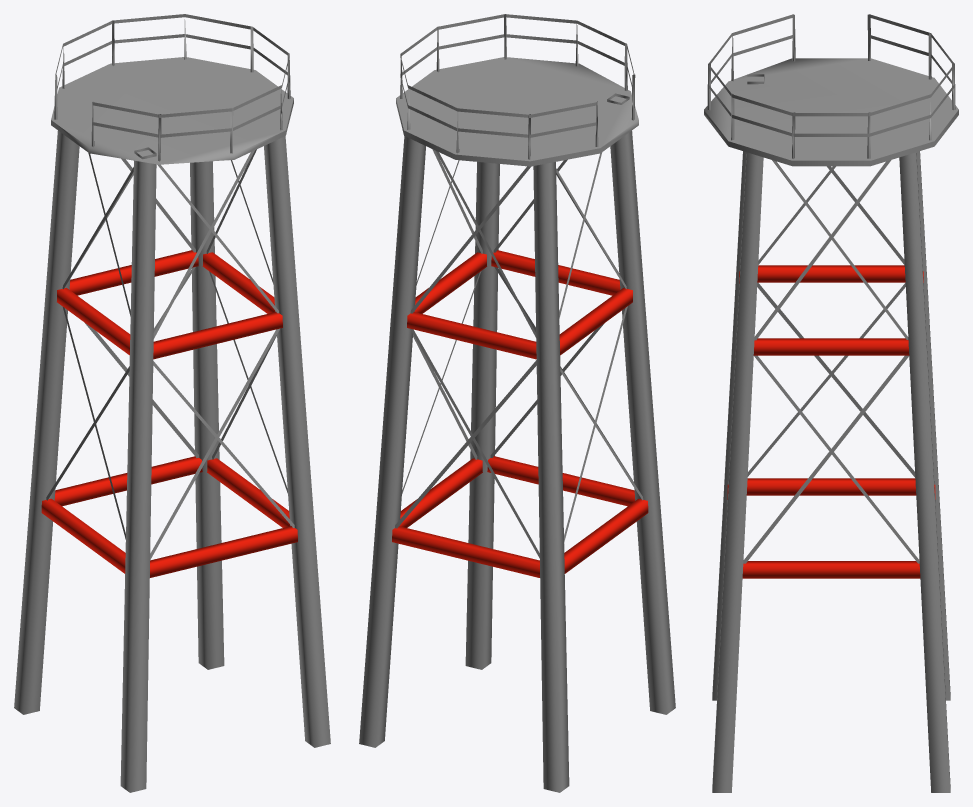
Rendered from ObservationTower.glb.
3 views of the same model, side by side, from view 1: azimuth 30°, elevation 25°; view 2: azimuth 150°, elevation 25°; view 3: azimuth 270°, elevation 25° (orthographic). The views are drawn at different scales.
Parts seen in each view (by area): view 1: Tower; view 2: Tower; view 3: Tower.
Boxes of the visible parts, x1,y1,x2,y2 form: Tower: (14,14,330,792); Tower: (359,14,675,792); Tower: (704,14,958,792).
Size of the model in its own units: 18.01 by 55.68 by 18.94.
